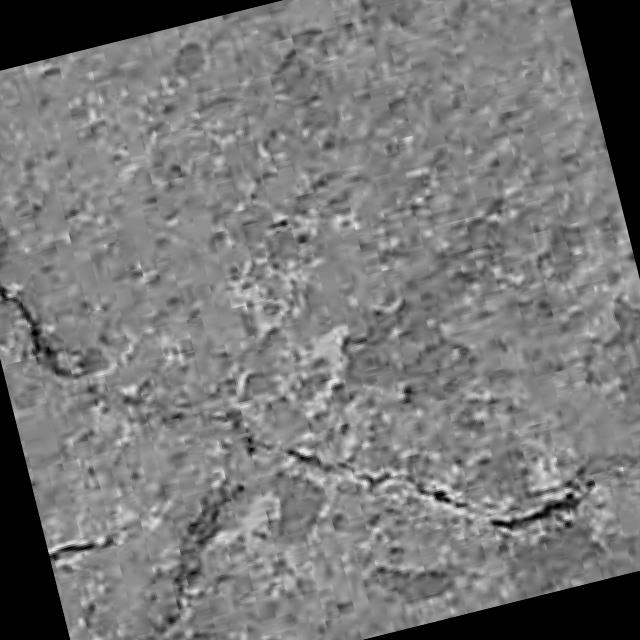crack: (143, 477, 241, 639), (268, 446, 481, 516), (0, 282, 107, 379), (488, 471, 594, 532), (48, 537, 116, 563)
